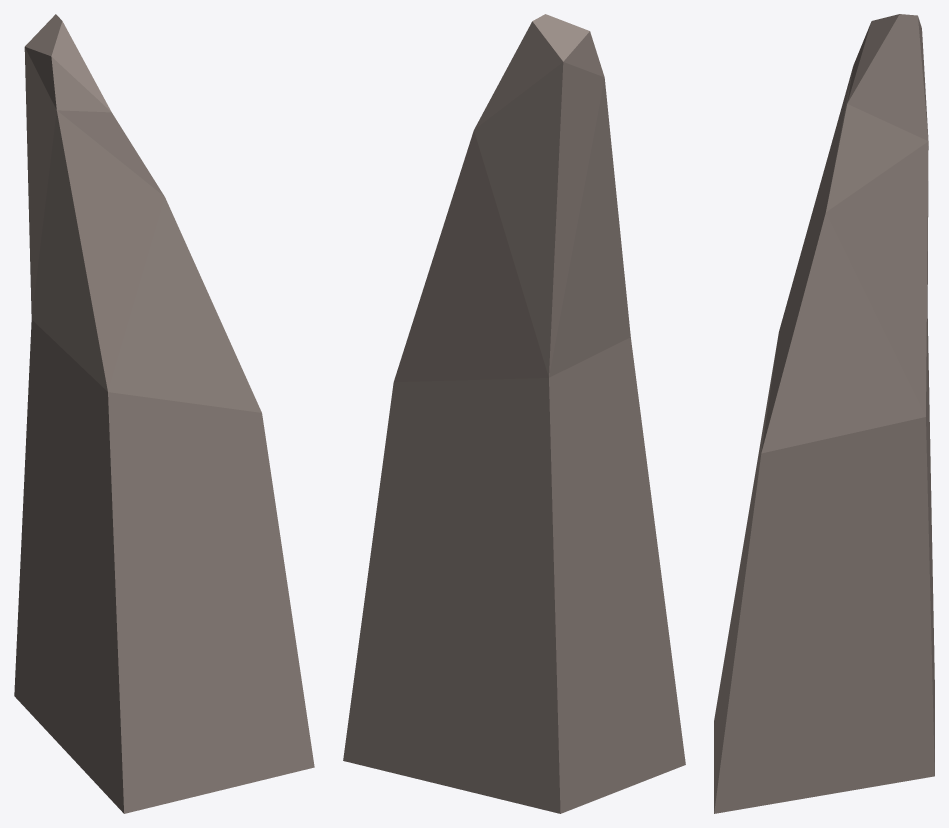
Rendered from Rock_Sharp_s_08.fbx.
3 views of the same model, side by side, from view 1: azimuth 30°, elevation 25°; view 2: azimuth 150°, elevation 25°; view 3: azimuth 270°, elevation 25° (orthographic). The views are drawn at different scales.
Parts seen in each view (by area): view 1: Rock_Sharp_s_08; view 2: Rock_Sharp_s_08; view 3: Rock_Sharp_s_08.
Part boxes in pixels (x1,y1,x2,y2): Rock_Sharp_s_08: (14,14,314,813); Rock_Sharp_s_08: (343,14,685,813); Rock_Sharp_s_08: (714,14,934,813).
Size of the model in its own units: 0.2078 by 0.7483 by 0.2075.
